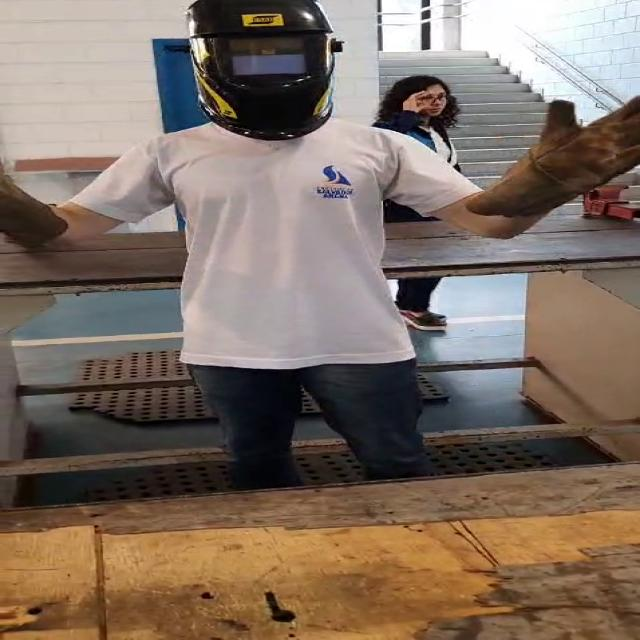sem_oculos: (407, 86, 453, 110)
